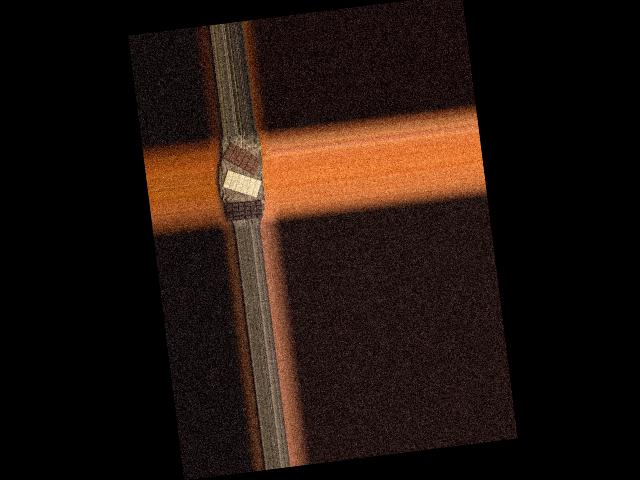chocolate: (224, 199, 263, 222)
